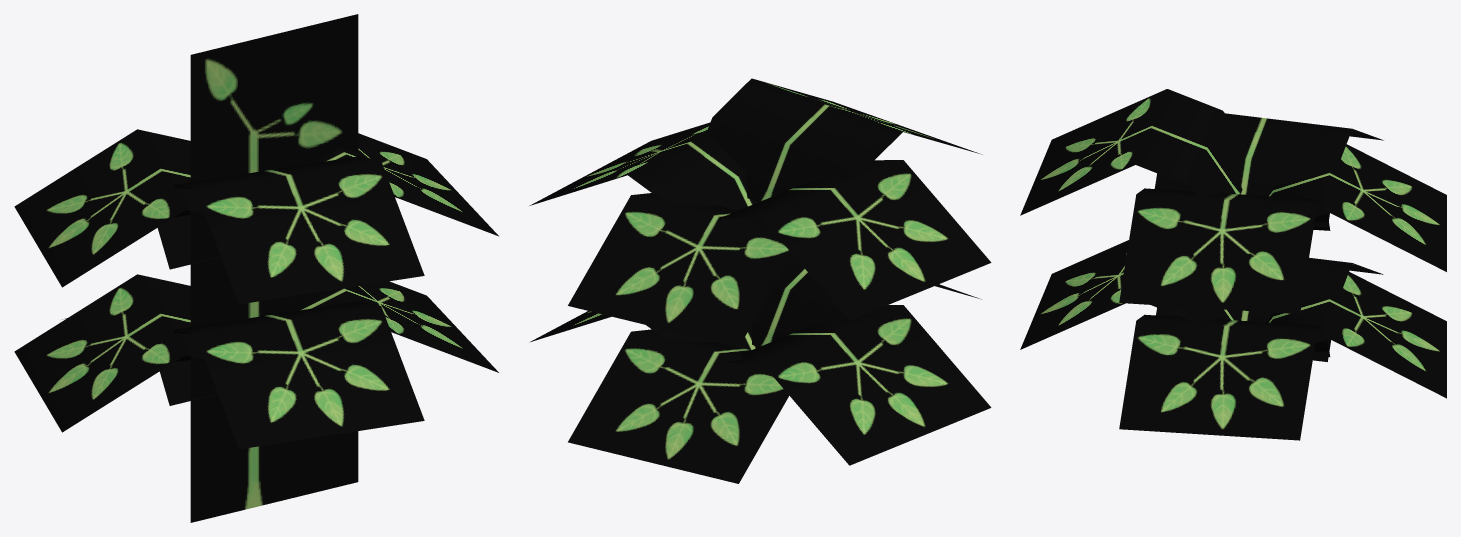
The model's file is LeafSetC_10.fbx.
The picture shows the model from 3 angles, left to right: view 1: azimuth 30°, elevation 25°; view 2: azimuth 150°, elevation 25°; view 3: azimuth 270°, elevation 25°; orthographic projection. The views are drawn at different scales.
Visible parts, largest first — view 1: LeafSetC_10; view 2: LeafSetC_10; view 3: LeafSetC_10.
Boxes of the visible parts, bbox=[...] form: LeafSetC_10: bbox=[14, 14, 498, 522]; LeafSetC_10: bbox=[529, 78, 991, 483]; LeafSetC_10: bbox=[1020, 89, 1446, 440].
Size of the model in its own units: 0.9735 by 1.05 by 0.9392.
